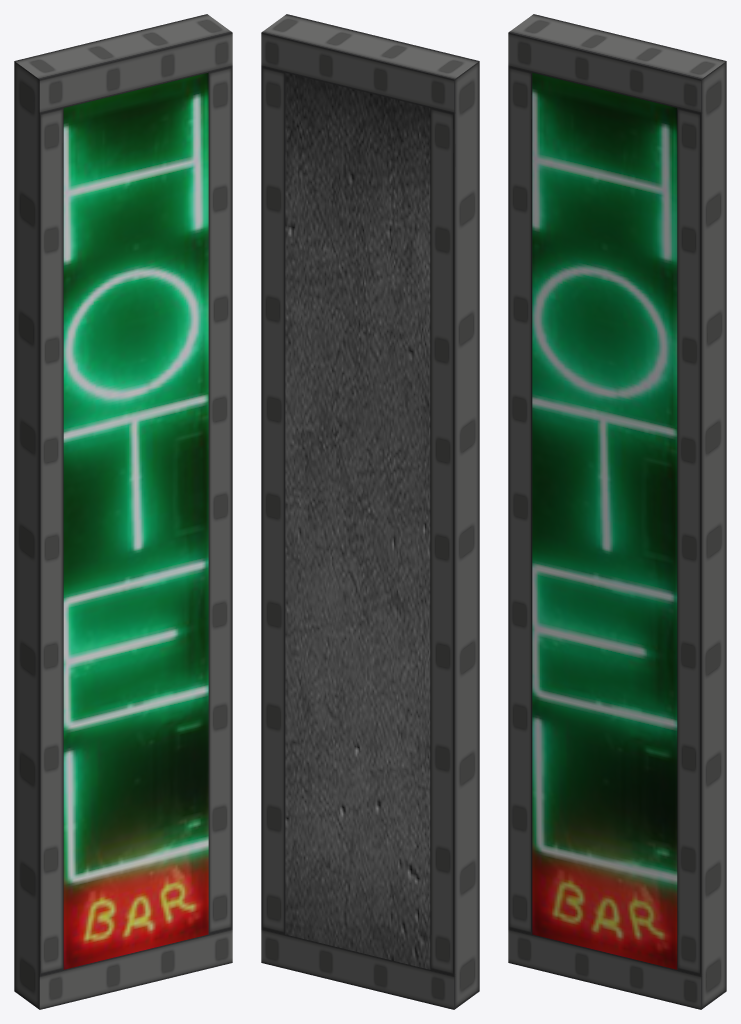
File: sign board16.FBX
3 views of the same model, side by side, from view 1: azimuth 30°, elevation 25°; view 2: azimuth 150°, elevation 25°; view 3: azimuth 330°, elevation 25° (orthographic).
Visible parts, largest first — view 1: sign board16; view 2: sign board16; view 3: sign board16.
Boxes of the visible parts, <box> form: sign board16: <box>14,14,232,1009</box>; sign board16: <box>261,14,479,1009</box>; sign board16: <box>508,14,726,1009</box>.
Bounding box in the file's own units: 2.6 × 12 × 0.5925.
